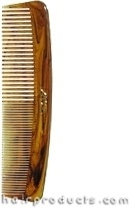grozi_17: (2, 0, 62, 203)
